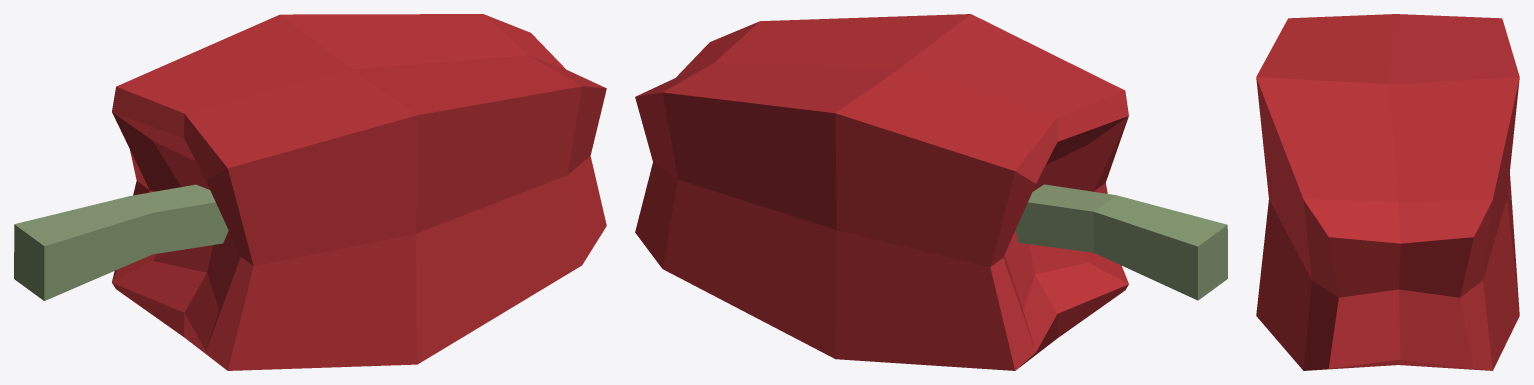
The model's file is bellpepper.fbx.
3 views of the same model, side by side, from view 1: azimuth 30°, elevation 25°; view 2: azimuth 150°, elevation 25°; view 3: azimuth 270°, elevation 25° (orthographic). The views are drawn at different scales.
Visible parts, largest first — view 1: bellpepper; view 2: bellpepper; view 3: bellpepper.
Boxes of the visible parts, left/top/right/bottom form: bellpepper: left=14, top=14, right=606, bottom=370; bellpepper: left=635, top=14, right=1227, bottom=370; bellpepper: left=1256, top=14, right=1519, bottom=370.
Bounding box in the file's own units: 15.93 × 6.98 × 6.98.
Materials: 1 (1 with a texture image).
